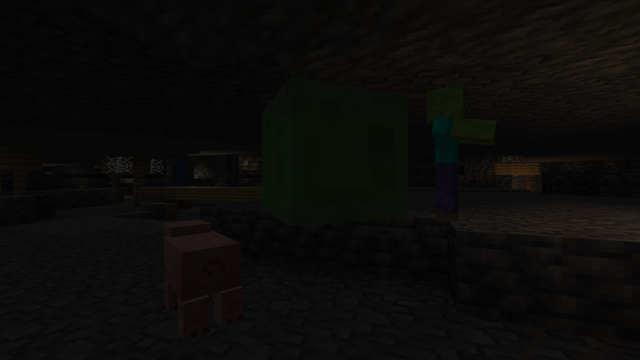cochons: (138, 228, 251, 337)
slimes: (244, 83, 389, 226)
zombies: (425, 86, 472, 222)
